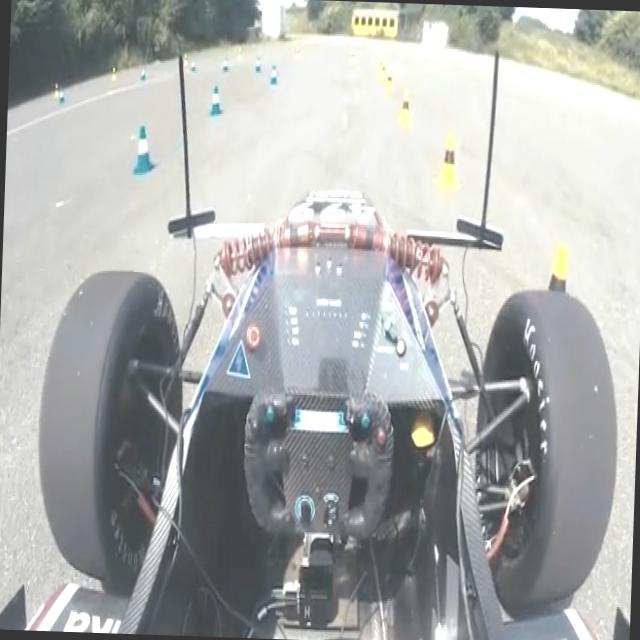blue_cone: (132, 125, 158, 178), (209, 85, 224, 116)
yellow_cone: (433, 129, 463, 191), (397, 90, 414, 126)
